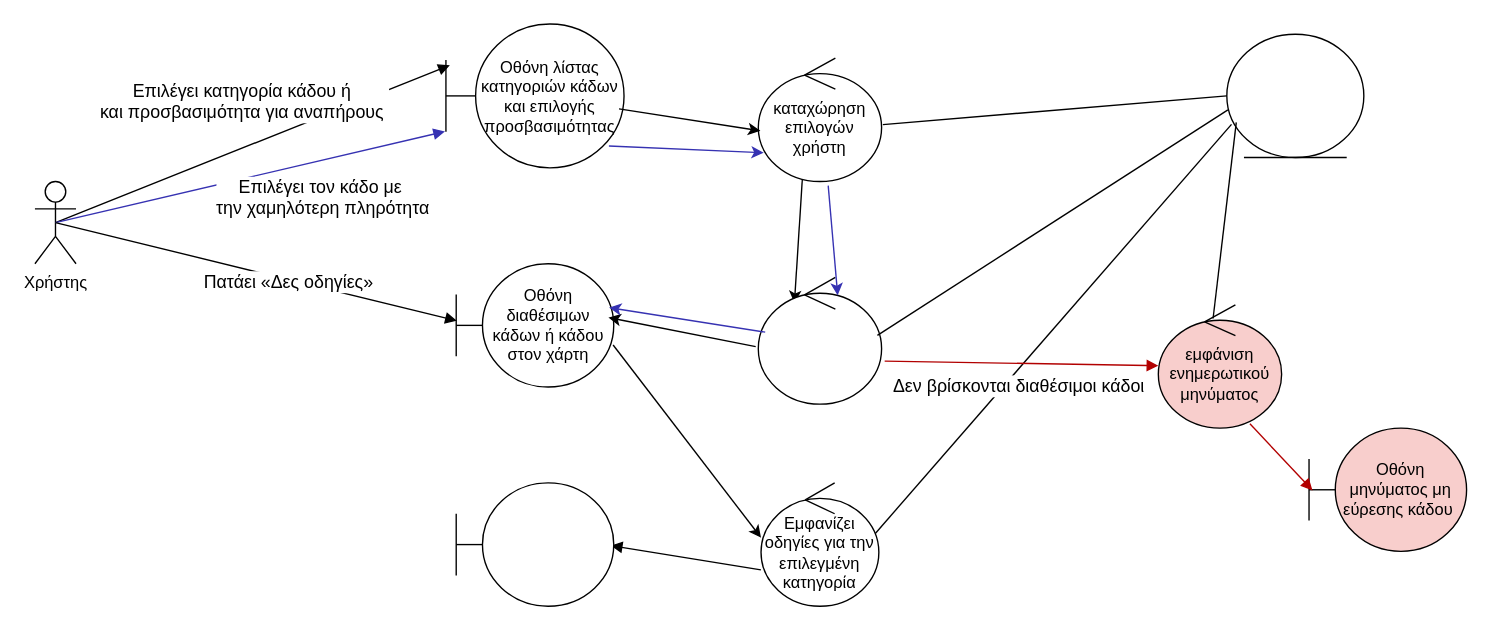
Image size: 1491x630. Some labels were removed from this diagram. Here are the shapes that lost their labels. From the top down, the box of each, then its label:
(1225, 33, 1364, 158): Βάση CityZen
(757, 276, 882, 404): ελέγχεται η διαθεσιμότητα κάδων της κατηγορίας
(455, 482, 614, 606): Οθόνη διαθέσιμων κάδων στον χάρτη και οδηγιών
